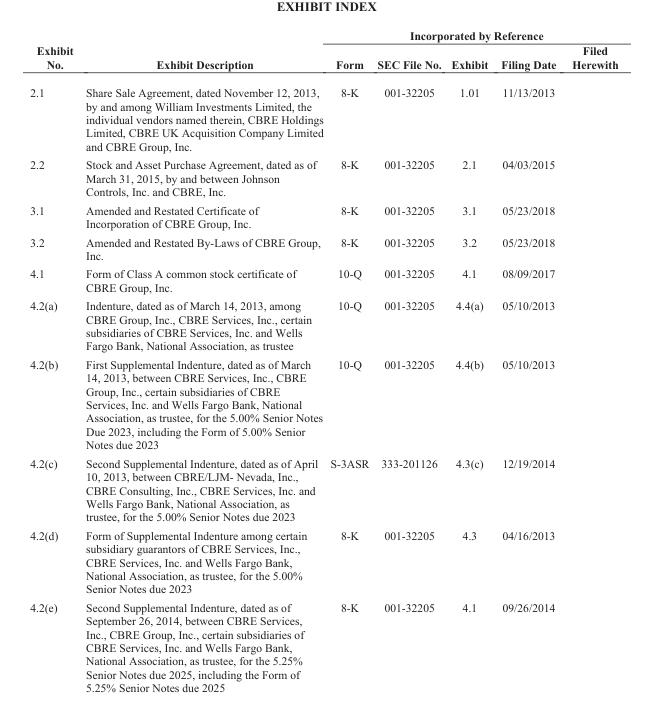table: (29, 28, 617, 693)
table column: (78, 28, 326, 693), (372, 28, 445, 693), (493, 28, 563, 693), (563, 28, 617, 693), (29, 28, 78, 693), (445, 28, 493, 693), (326, 28, 372, 693)
table column header: (29, 28, 617, 78)
table row: (29, 354, 617, 453), (29, 597, 617, 693), (29, 78, 617, 155), (29, 453, 617, 525), (29, 525, 617, 597), (29, 296, 617, 354), (29, 155, 617, 200), (29, 42, 617, 78), (29, 200, 617, 232), (29, 232, 617, 264), (29, 264, 617, 296), (29, 28, 617, 42)
table spanning cell: (78, 28, 326, 78), (326, 28, 617, 42), (29, 28, 78, 78)
